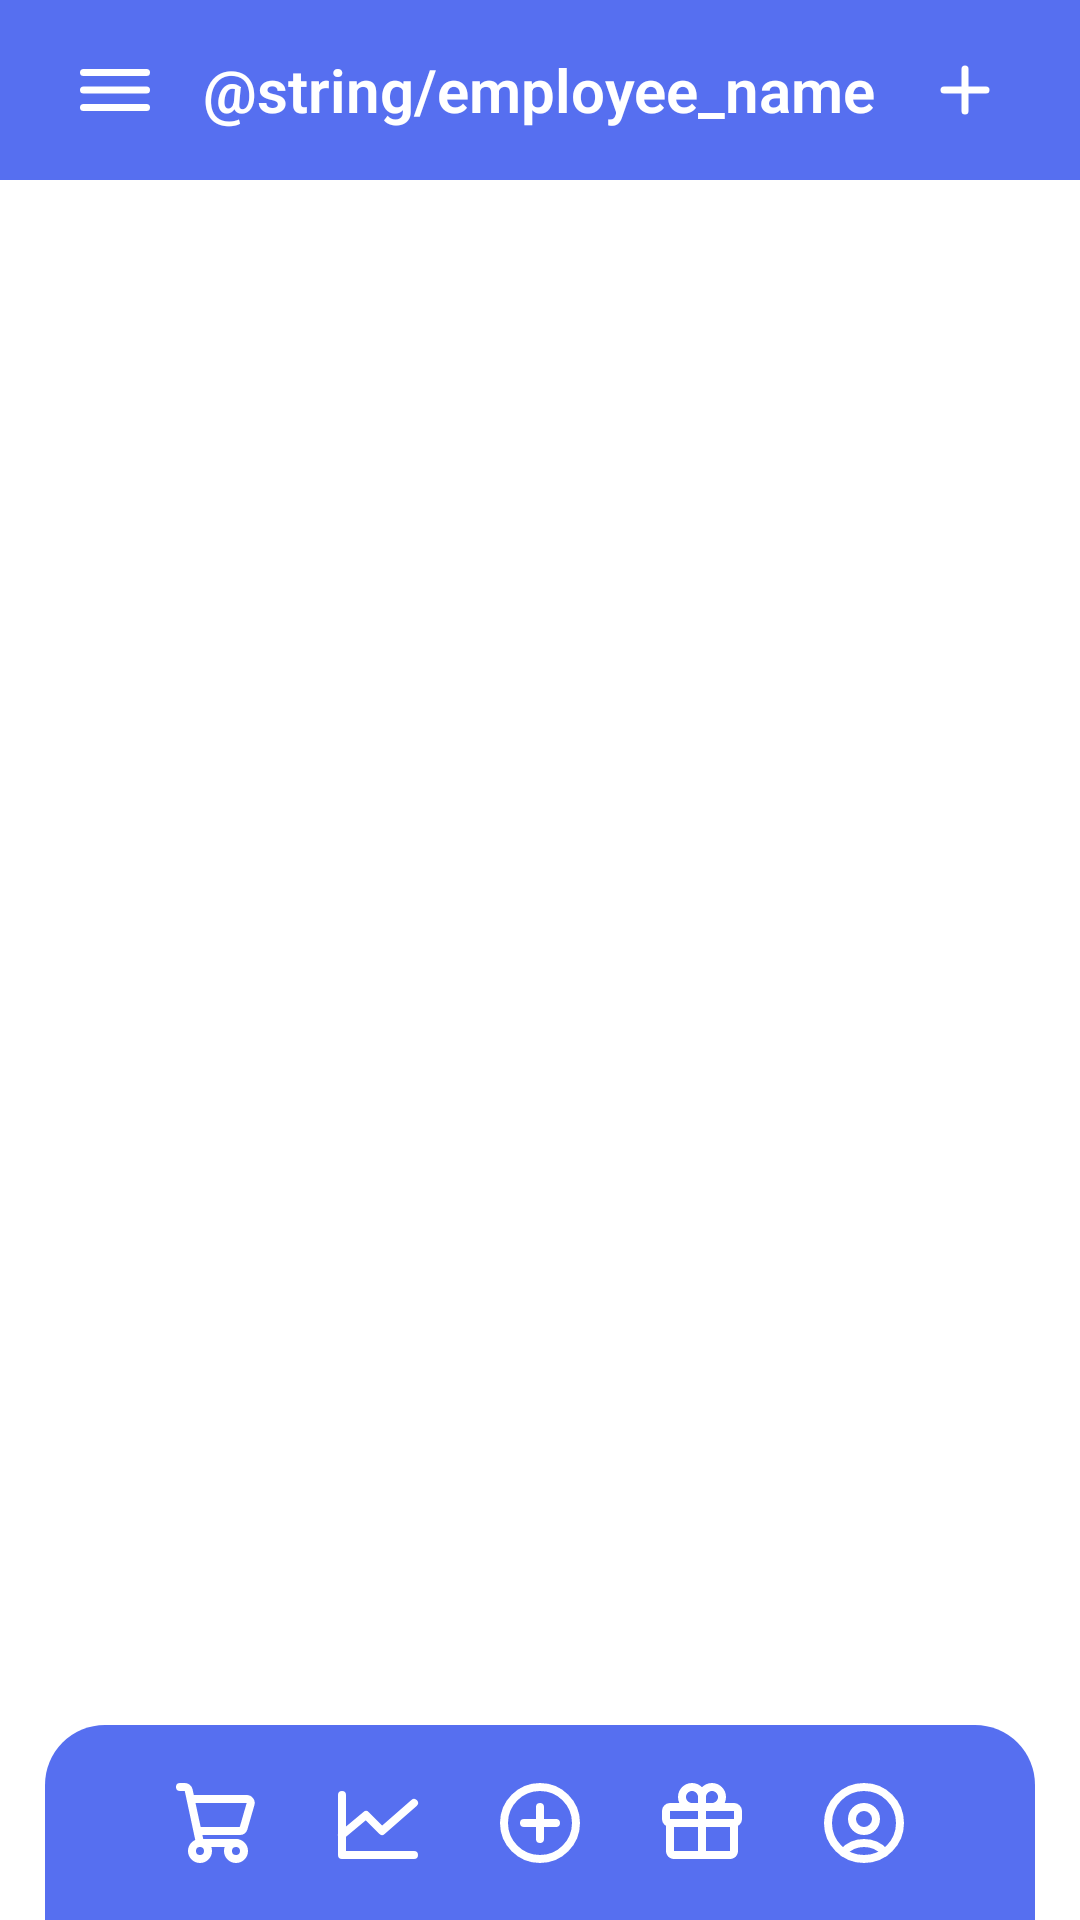

Icons on this 1080×1920 Android screen, each with its box as (x1, y1, x2, y2):
add plus: (940, 65, 990, 115)
add plus circle: (500, 1783, 580, 1863)
chart line: (338, 1791, 418, 1859)
gift: (662, 1783, 742, 1859)
hamburger lg: (80, 69, 150, 111)
shopping cart: (176, 1783, 255, 1863)
usercircle: (824, 1783, 904, 1863)
